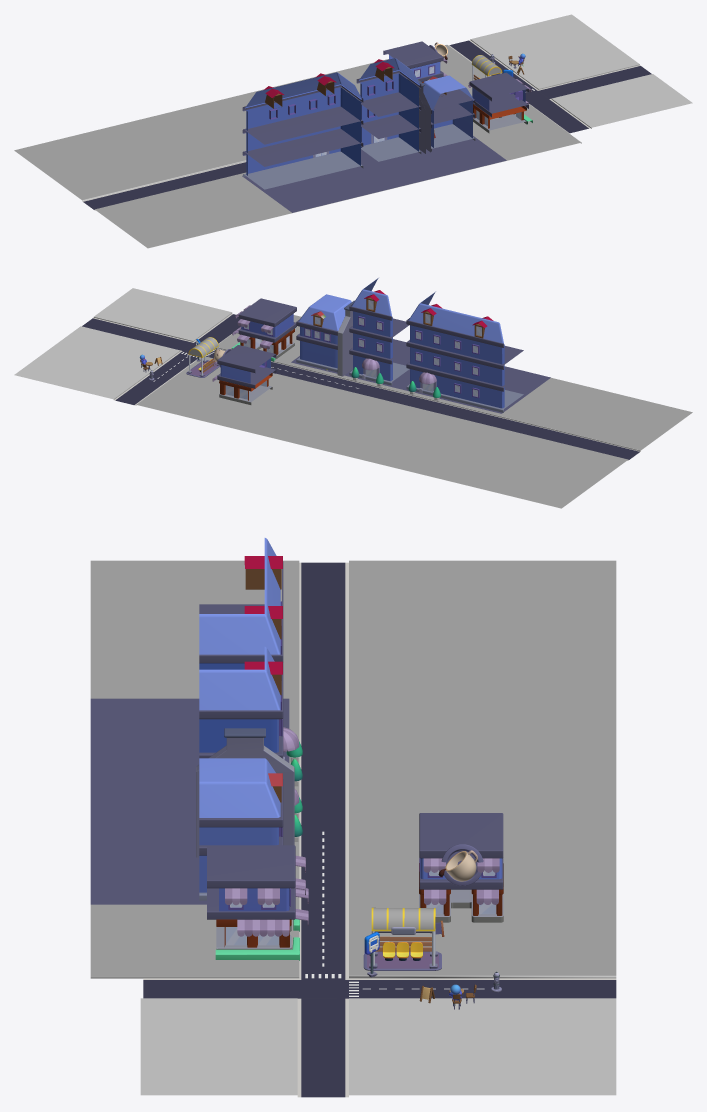
Rendered from BG_home.fbx.
3 views of the same model, one above another, from view 1: azimuth 30°, elevation 25°; view 2: azimuth 150°, elevation 25°; view 3: azimuth 270°, elevation 25° (orthographic). The views are drawn at different scales.
Parts seen in each view (by area): view 1: House, Gradientshadow, ground, House3, bus_stop; view 2: Gradientshadow, House, ground, House3, bus_stop; view 3: Gradientshadow, ground, House, House3, bus_stop.
Part boxes in pixels (left/top/right/bottom): House: left=242, top=58, right=532, bottom=212; Gradientshadow: left=14, top=45, right=581, bottom=248; ground: left=15, top=14, right=692, bottom=248; House3: left=383, top=41, right=447, bottom=82; bus_stop: left=468, top=55, right=513, bottom=84; Gradientshadow: left=136, top=315, right=692, bottom=508; House: left=231, top=278, right=550, bottom=413; ground: left=14, top=288, right=692, bottom=508; House3: left=212, top=345, right=276, bottom=404; bus_stop: left=186, top=337, right=219, bottom=377; Gradientshadow: left=90, top=560, right=616, bottom=976; ground: left=90, top=562, right=616, bottom=1097; House: left=90, top=538, right=308, bottom=960; House3: left=419, top=813, right=503, bottom=936; bus_stop: left=363, top=907, right=441, bottom=977.
Bounding box in the file's own units: 302 × 45.69 × 125.
